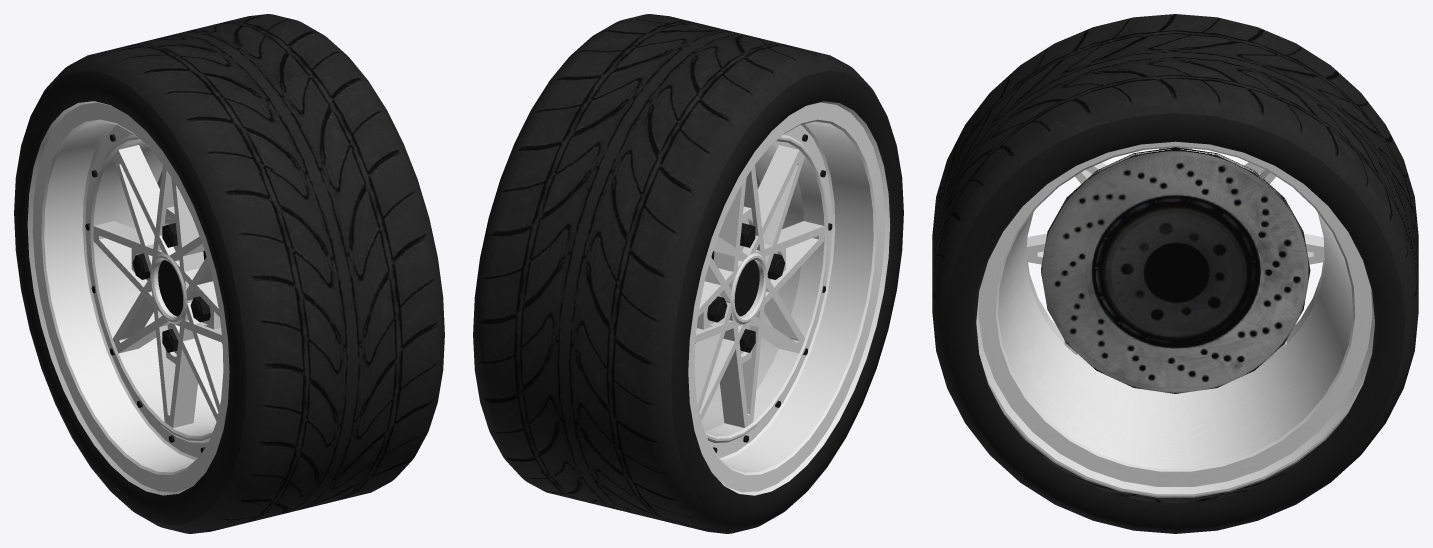
Rendered from 14_Rota_Flashback.fbx.
The picture shows the model from 3 angles, left to right: view 1: azimuth 30°, elevation 25°; view 2: azimuth 150°, elevation 25°; view 3: azimuth 270°, elevation 25°; orthographic projection.
Parts seen in each view (by area): view 1: Combined No Name Object 0, Chrome, Rota_Flashback, Combined co_contisportcontact_2_vmax_wall Object 0, Bolts; view 2: Combined No Name Object 0, Chrome, Rota_Flashback, Combined co_contisportcontact_2_vmax_wall Object 0, Bolts; view 3: Combined No Name Object 0, Rota_Flashback, Rotor, Combined co_contisportcontact_2_vmax_wall Object 0, Chrome.
Part boxes in pixels (box(x1,y1,x2,y2)): Combined No Name Object 0: box(14, 14, 444, 533); Chrome: box(27, 101, 229, 495); Rota_Flashback: box(89, 134, 223, 442); Combined co_contisportcontact_2_vmax_wall Object 0: box(14, 70, 246, 525); Bolts: box(85, 134, 210, 452); Combined No Name Object 0: box(473, 14, 903, 533); Chrome: box(688, 101, 890, 495); Rota_Flashback: box(694, 134, 828, 442); Combined co_contisportcontact_2_vmax_wall Object 0: box(671, 70, 903, 525); Bolts: box(707, 134, 832, 453); Combined No Name Object 0: box(932, 14, 1418, 533); Rota_Flashback: box(976, 141, 1374, 497); Rotor: box(1041, 147, 1310, 393); Combined co_contisportcontact_2_vmax_wall Object 0: box(945, 113, 1405, 530); Chrome: box(976, 142, 1374, 497).
Size of the model in its own units: 0.3334 by 0.688 by 0.688.
